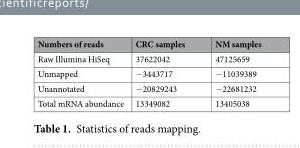table: (36, 37, 260, 109)
table column: (36, 37, 128, 109), (128, 37, 199, 109), (199, 37, 260, 109)
table column header: (36, 37, 260, 50)
table row: (36, 50, 260, 65), (36, 65, 260, 80), (36, 80, 260, 95), (36, 95, 260, 109), (36, 37, 260, 50)
